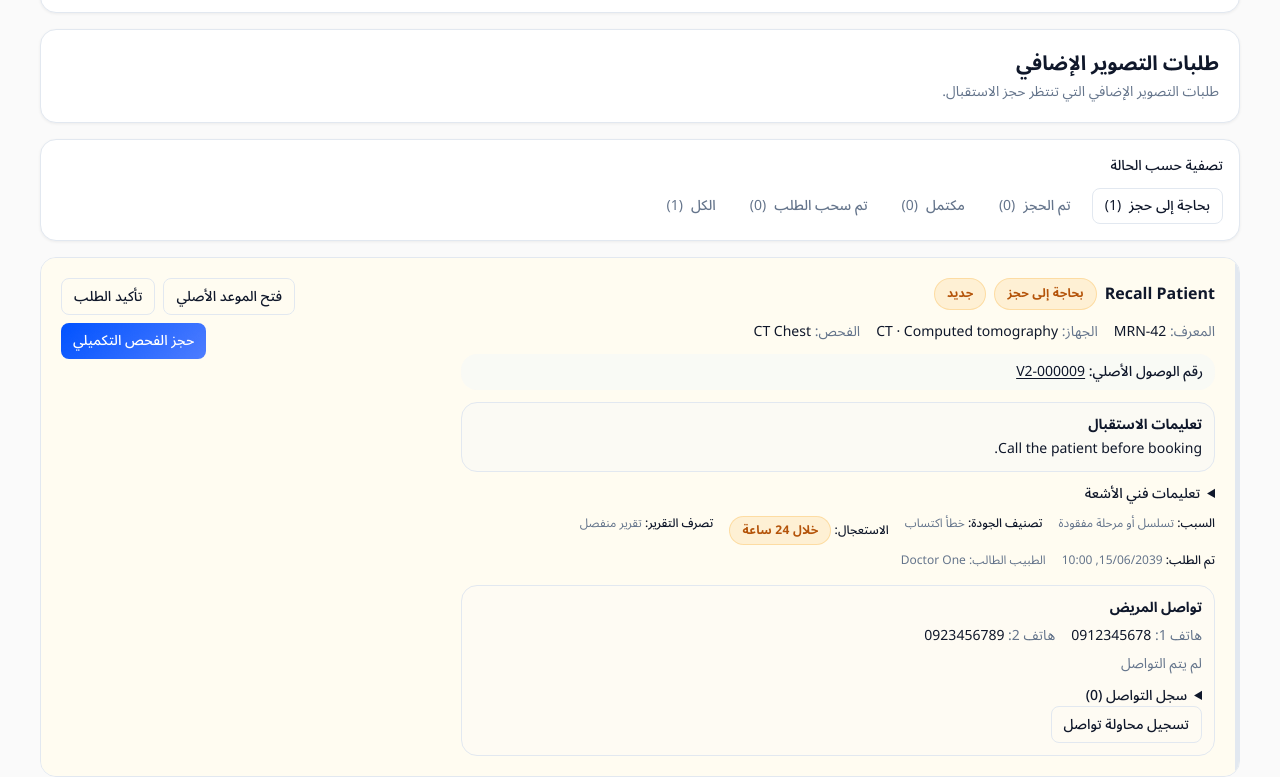
Test case: Recall Requests metadata › renders AR-06 contact labels in Arabic without mojibake
The width and height of the screenshot is (1280, 777).
(page scrolled)
Expected: the text "تواصل المريض" is shown, [1110,593,1202,622]
Expected: the text "لم يتم التواصل" is shown, [1121,649,1202,678]
Click the button "تسجيل محاولة تواصل".
click(1126, 725)  # box [1051,706,1202,743]
(page scrolled)
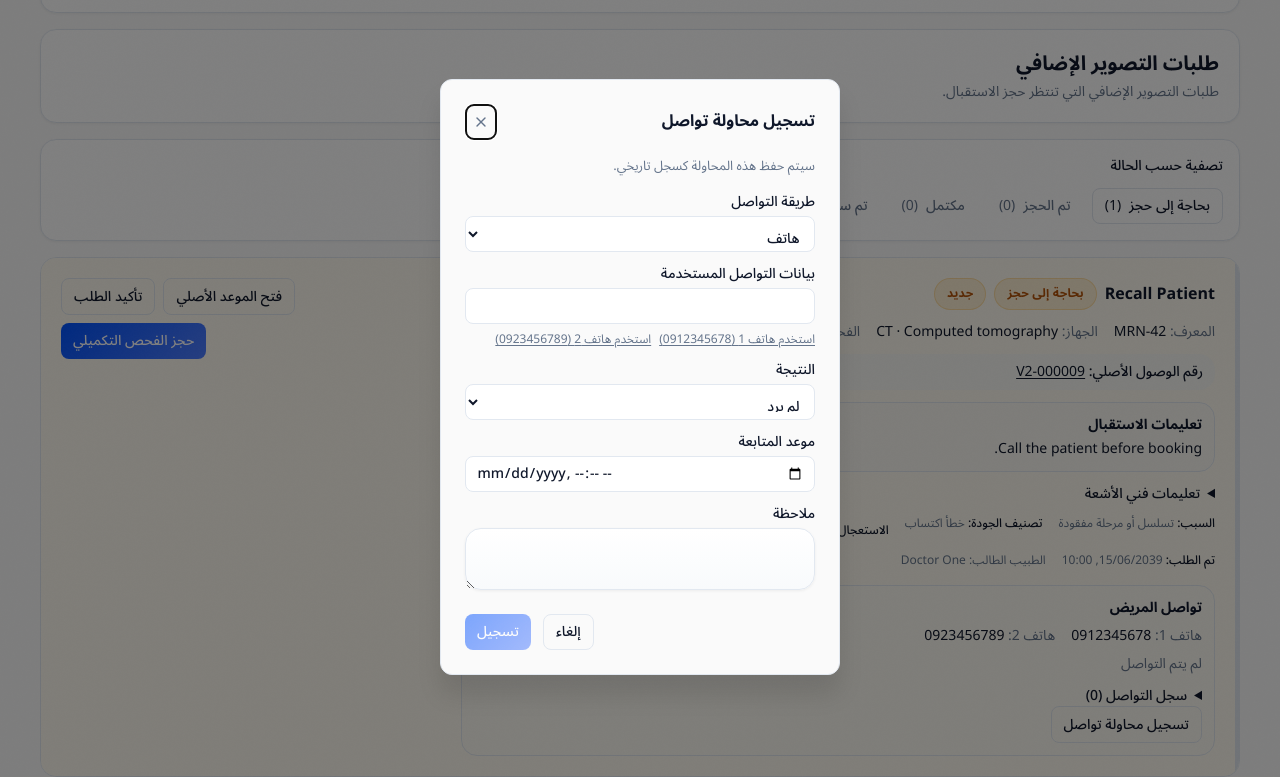
Result: the text "طريقة التواصل" is shown at [465,192,815,252]
Result: the text "النتيجة" is shown at [465,360,815,420]
Result: the button "تسجيل" is shown at [465,614,531,650]
